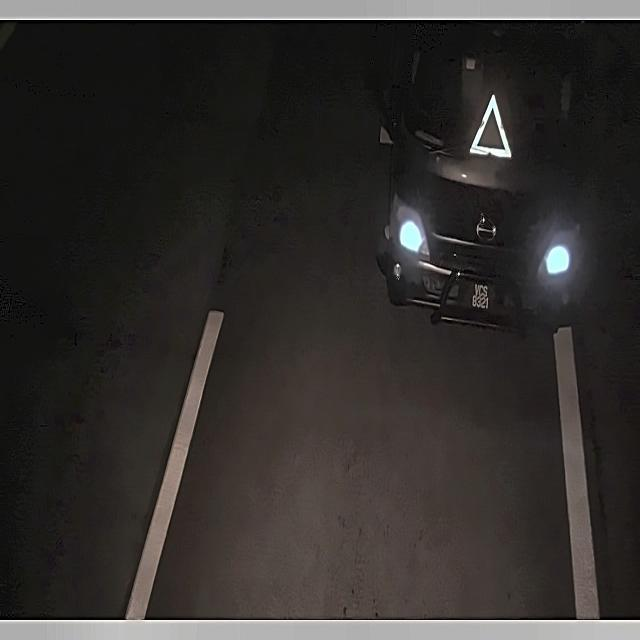car: (462, 271, 499, 318)
